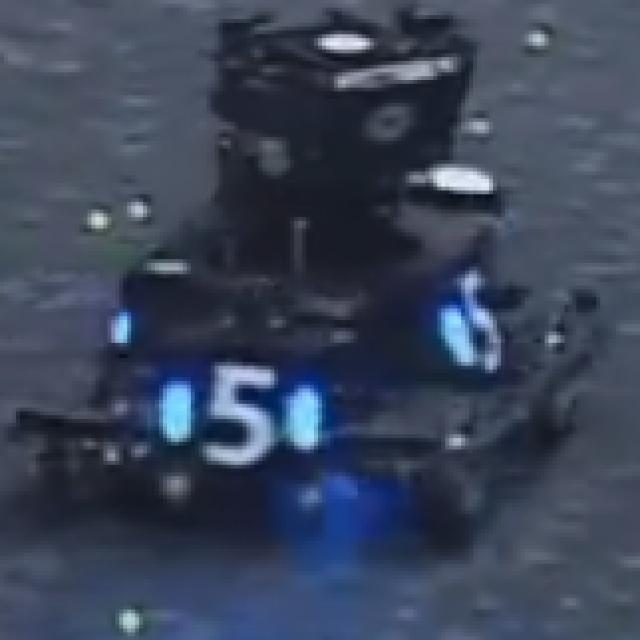B5: (171, 358, 314, 465)
